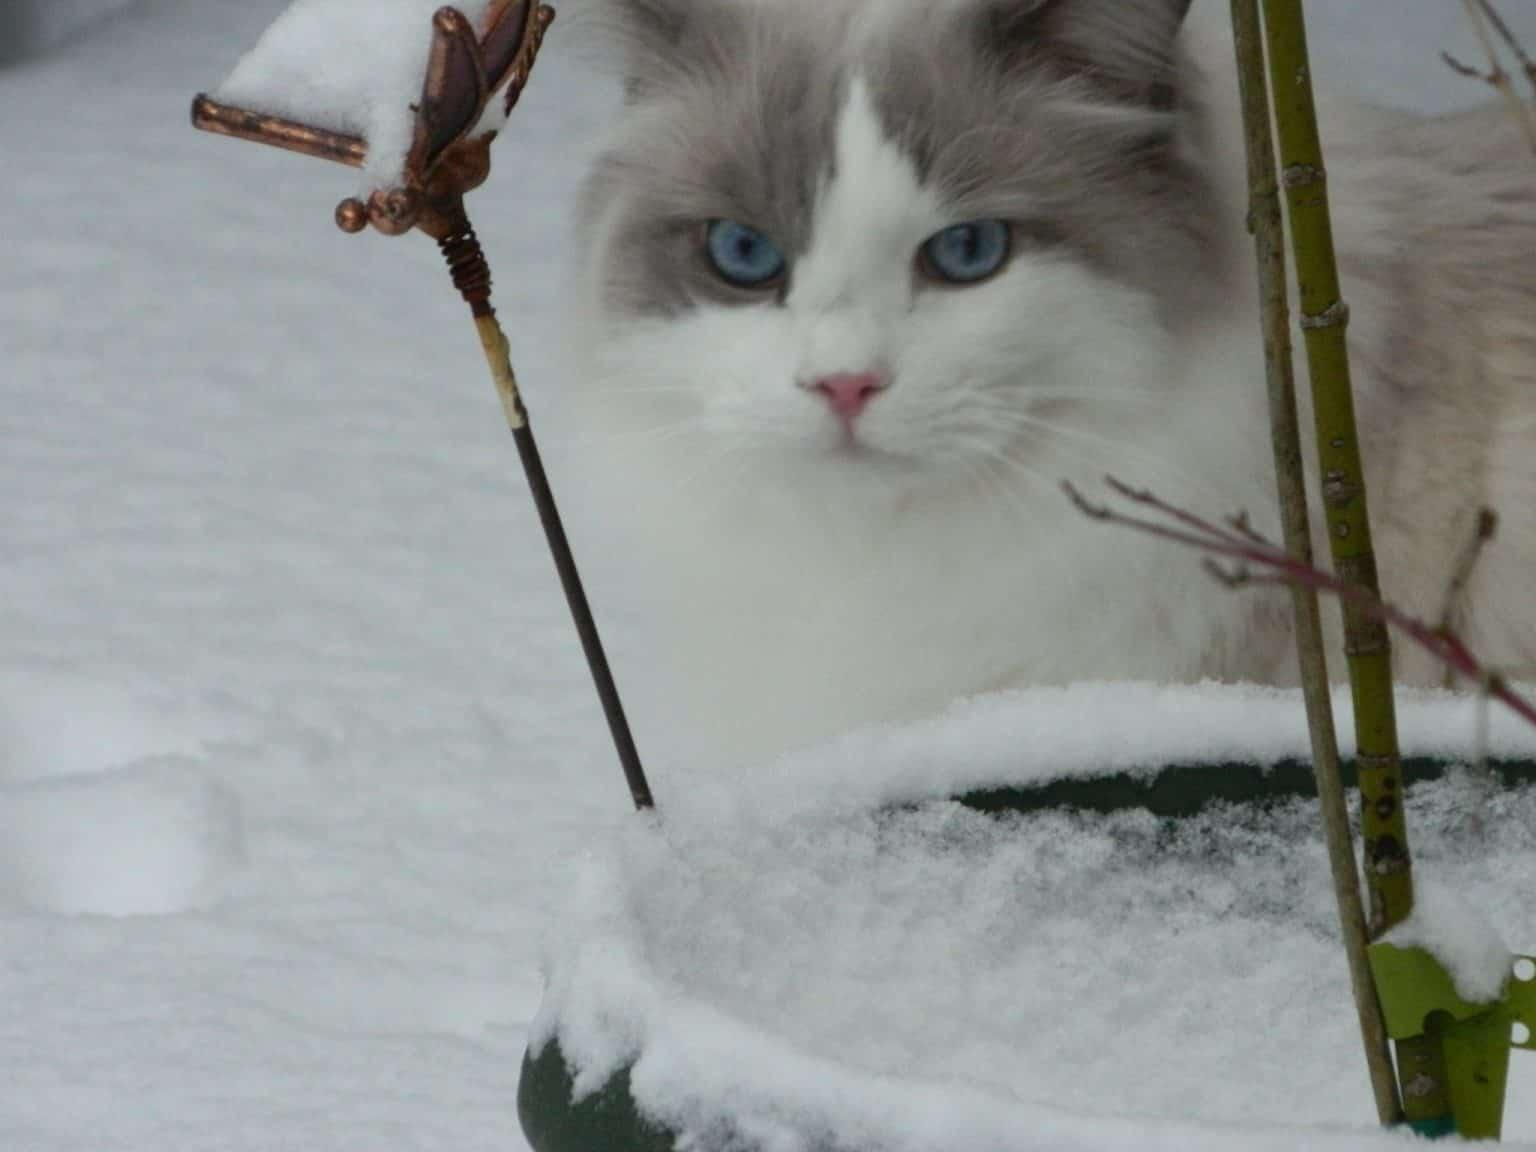ragdoll: (547, 1, 1230, 601)
